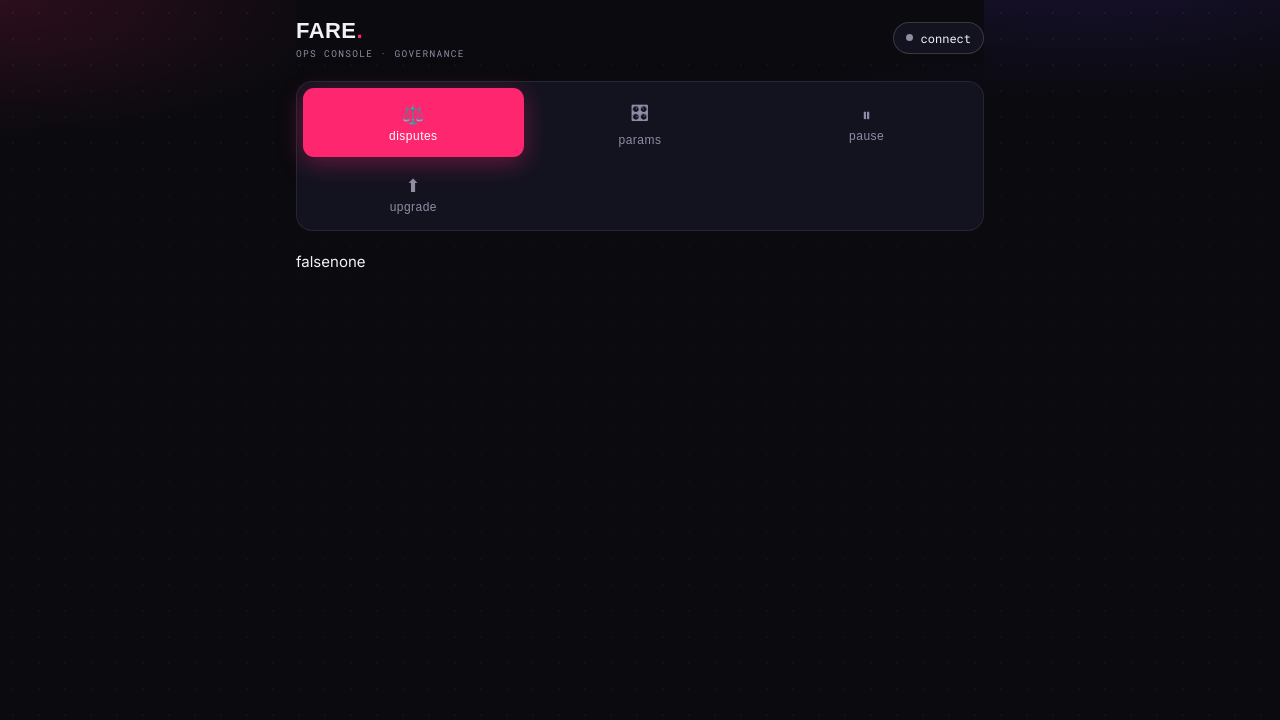
it: the shared transaction wrapper › releases busy after a FAILURE too
Click the button "connect" at x=938, y=38, box [893, 22, 984, 54]
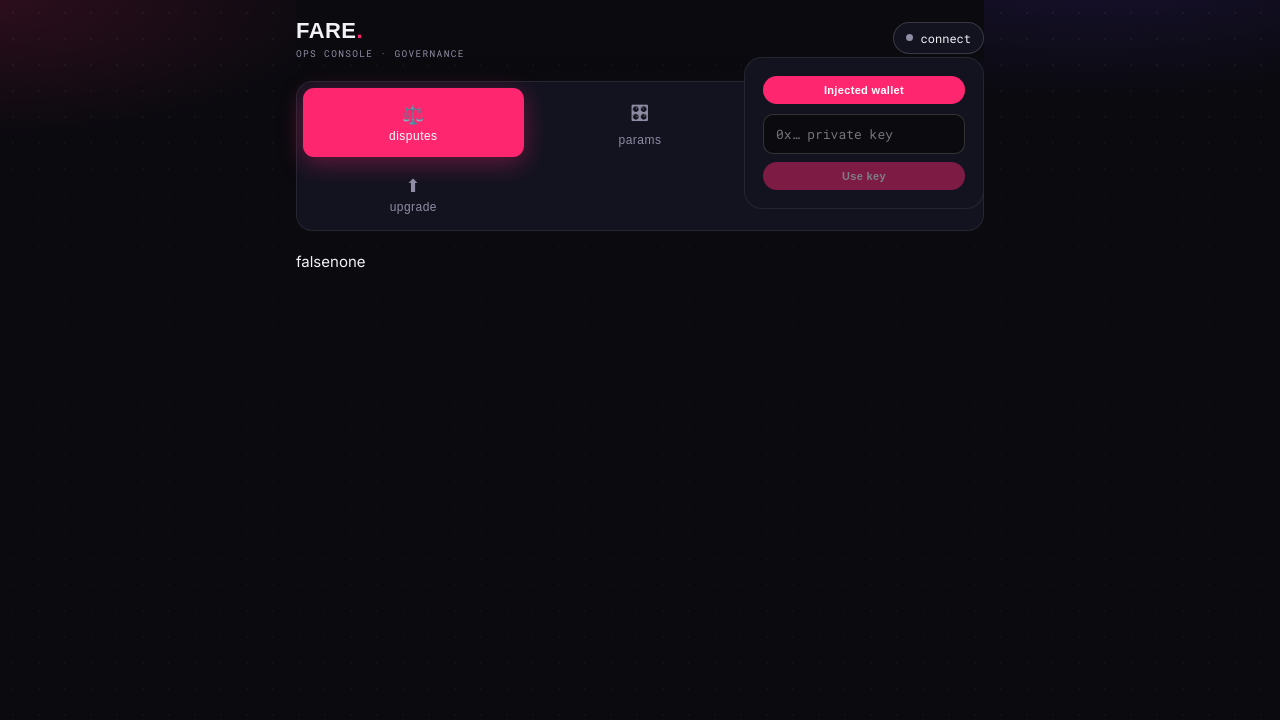
Click the button "Injected wallet" at x=864, y=90, box [763, 76, 965, 104]
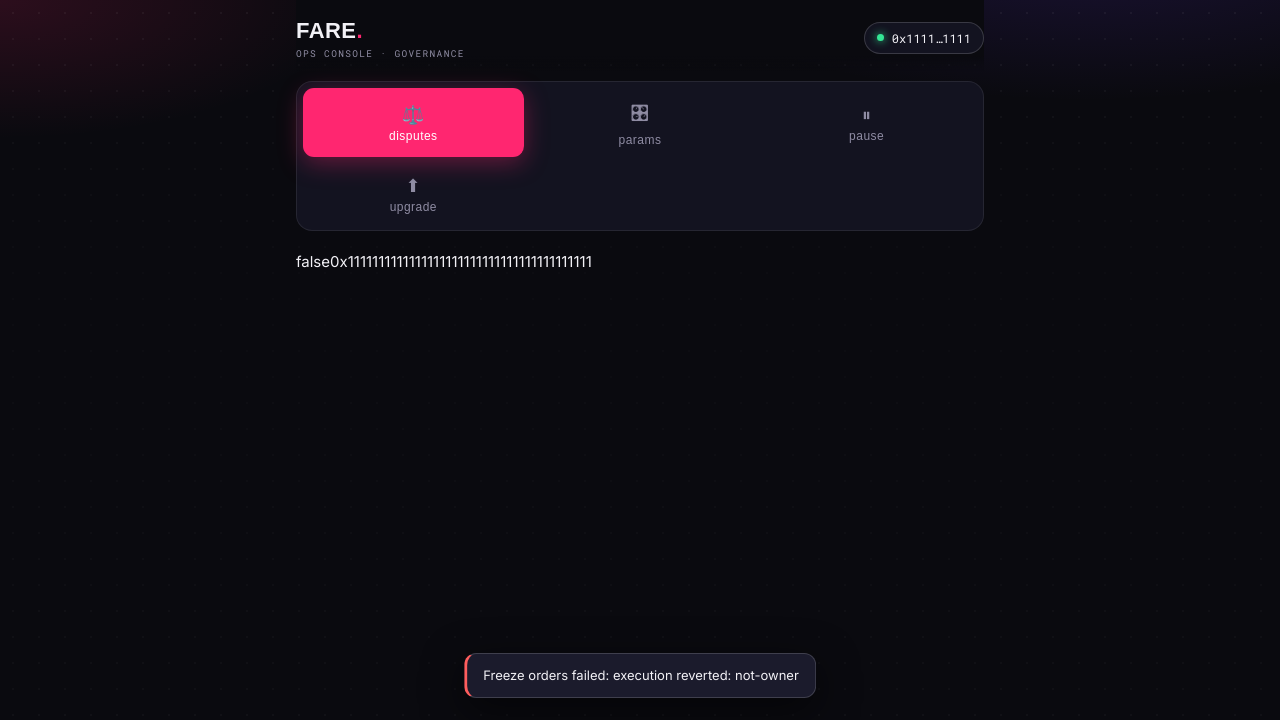
Expected: the text with test id "busy" reads "false", [296, 252, 330, 271]
Now the text with test id "session" reads "0x1111111111111111111111111111111111111111", box [330, 252, 592, 271]
Now the text "Freeze orders failed: execution reverted: not-owner" is shown, box [464, 652, 816, 698]
